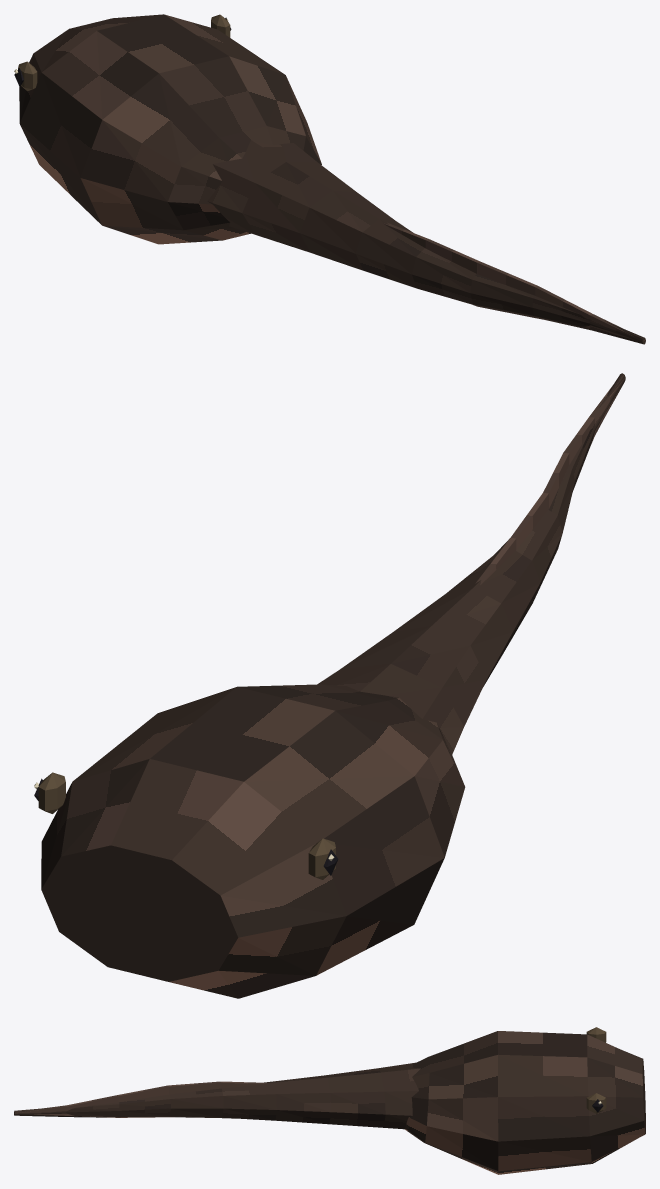
File: mon_freedom_tadpole.glb
3 views of the same model, one above another, from view 1: azimuth 30°, elevation 25°; view 2: azimuth 150°, elevation 25°; view 3: azimuth 270°, elevation 25° (orthographic). The views are drawn at different scales.
Parts seen in each view (by area): view 1: closed_body; view 2: closed_body; view 3: closed_body.
Boxes of the visible parts, box(x1,y1,x2,y2) form: closed_body: box(14, 14, 645, 344); closed_body: box(34, 373, 625, 998); closed_body: box(14, 1027, 645, 1174).
Size of the model in its own units: 0.0281 by 0.0203 by 0.0967.
1 material, 1 textured.
